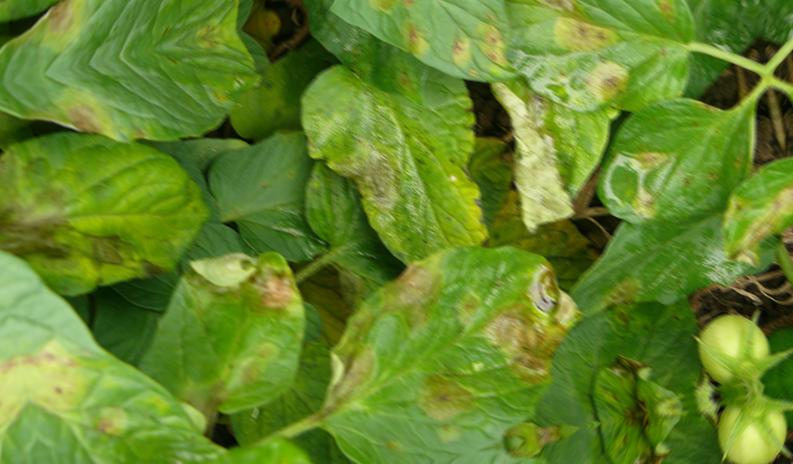Tomato leaf late blight: (287, 209, 601, 464), (297, 0, 543, 297), (194, 0, 558, 191), (110, 198, 344, 464), (0, 90, 235, 325), (0, 26, 280, 202), (465, 0, 733, 154), (573, 65, 793, 245), (691, 149, 793, 290)
